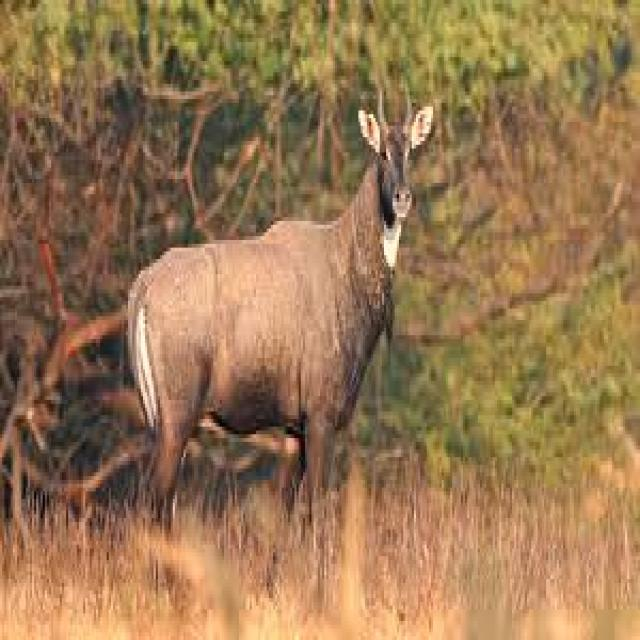objects: (82, 90, 464, 570)
